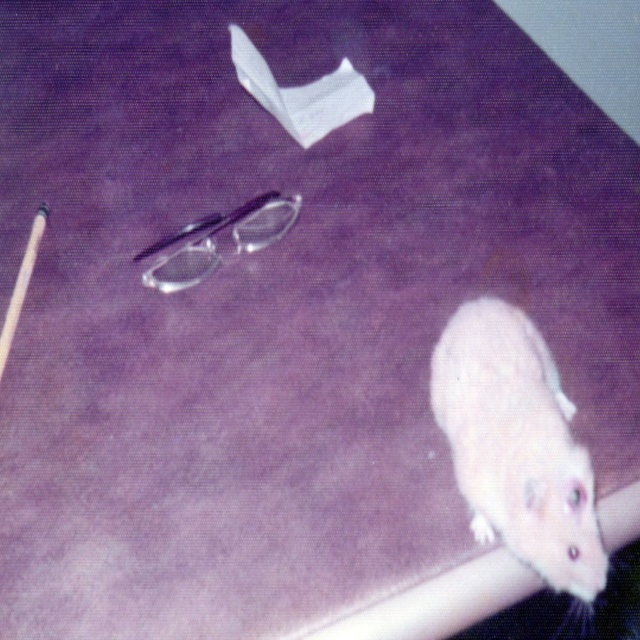Hamster: (424, 292, 609, 614)
